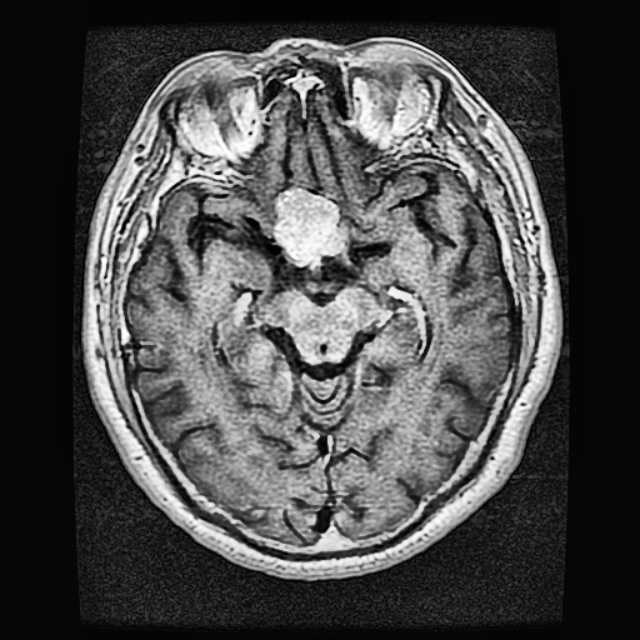Pituitary: (274, 187, 340, 267)
